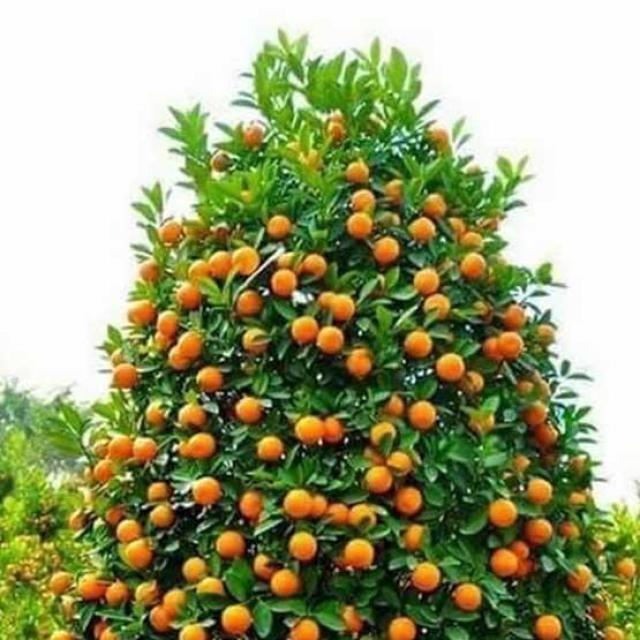Jeruk Sudah Matang: (404, 258, 449, 302), (213, 593, 256, 639), (185, 467, 228, 511), (428, 348, 472, 390), (484, 540, 524, 582), (276, 483, 320, 521), (290, 409, 330, 448), (342, 340, 380, 380), (385, 485, 430, 518), (338, 538, 380, 572), (230, 284, 268, 320), (288, 310, 322, 350), (522, 472, 560, 506), (267, 564, 305, 598), (250, 432, 290, 464), (406, 559, 444, 592), (486, 494, 518, 532), (189, 365, 232, 393), (340, 211, 380, 240), (231, 391, 266, 424), (181, 432, 219, 462), (346, 183, 380, 216), (406, 397, 440, 430), (369, 234, 404, 266), (452, 582, 487, 614), (361, 464, 397, 494), (270, 267, 304, 298), (108, 361, 142, 392), (460, 246, 489, 282), (529, 610, 566, 638), (288, 530, 320, 562), (340, 154, 371, 187), (174, 400, 208, 430), (215, 530, 248, 560), (177, 330, 210, 360), (230, 244, 260, 276), (406, 213, 436, 244), (404, 328, 434, 358), (156, 310, 187, 339), (316, 322, 344, 354), (493, 334, 532, 356), (330, 290, 356, 322), (301, 248, 327, 278), (264, 215, 295, 238)
